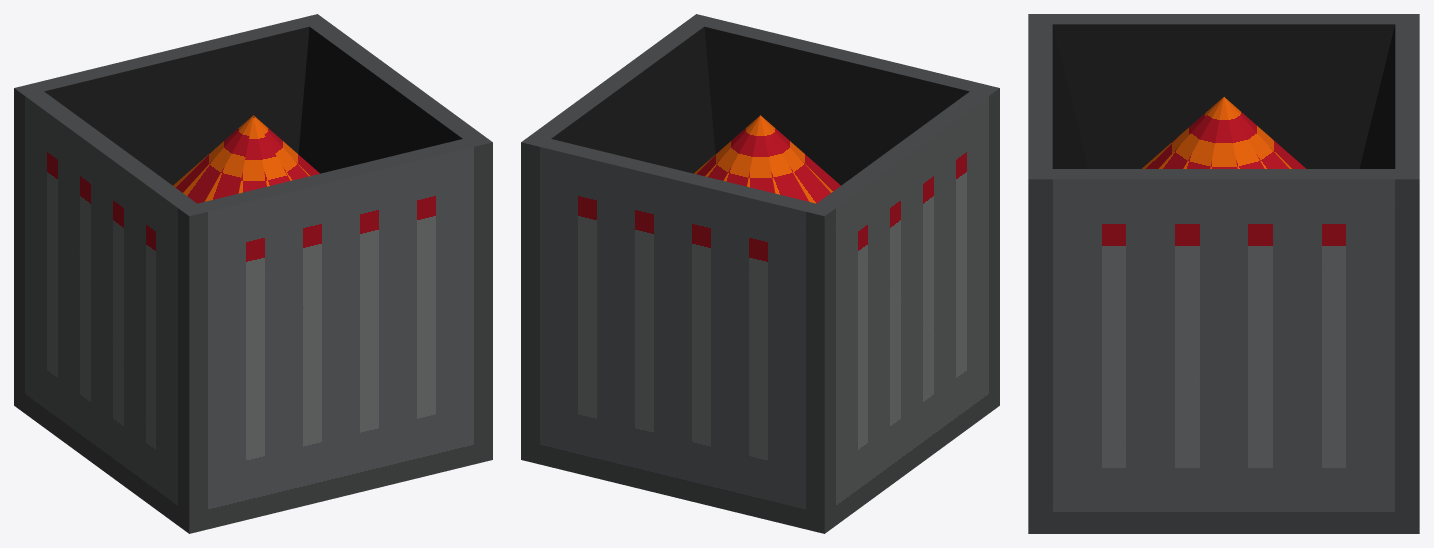
The model's file is thruster.gltf.
3 views of the same model, side by side, from view 1: azimuth 30°, elevation 25°; view 2: azimuth 150°, elevation 25°; view 3: azimuth 270°, elevation 25° (orthographic). The views are drawn at different scales.
Parts seen in each view (by area): view 1: mesh, cone; view 2: mesh, cone; view 3: mesh, cone.
Part boxes in pixels (x1,y1,x2,y2): mesh: (14, 14, 492, 533); cone: (173, 115, 319, 203); mesh: (521, 14, 999, 533); cone: (694, 115, 840, 203); mesh: (1028, 14, 1419, 533); cone: (1142, 97, 1305, 168).
Bounding box in the file's own units: 1 × 1 × 1.
Materials: 1 (1 with a texture image).
